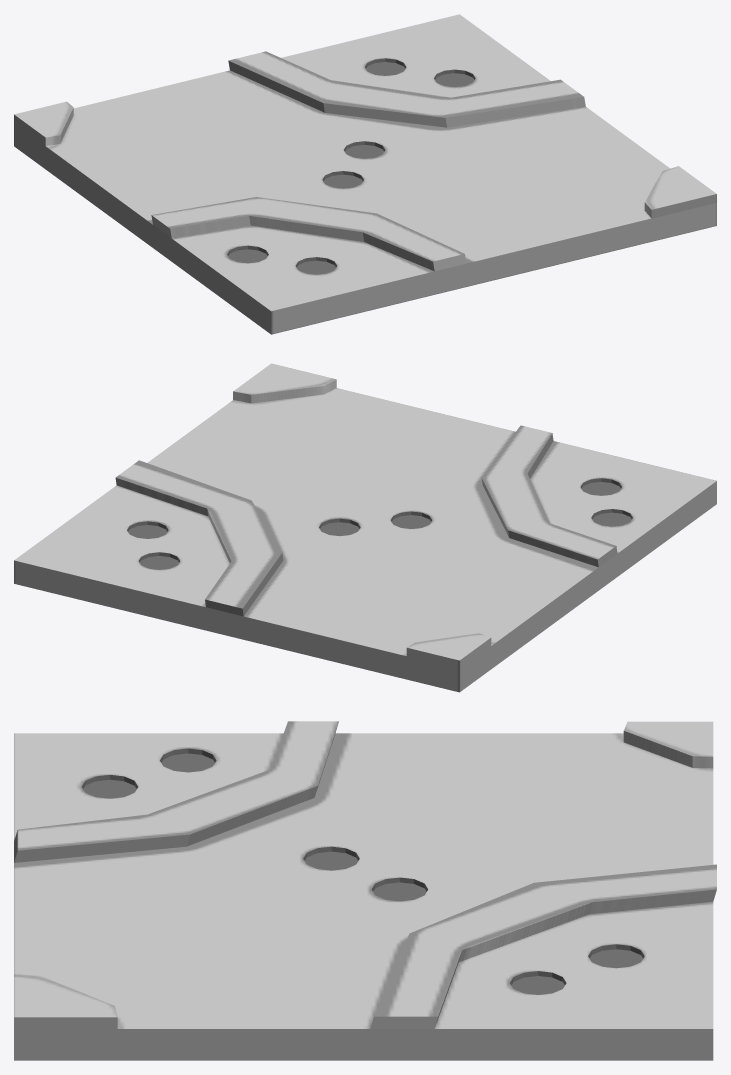
Rendered from FloorBrick_01.fbx.
3 views of the same model, one above another, from view 1: azimuth 30°, elevation 25°; view 2: azimuth 150°, elevation 25°; view 3: azimuth 270°, elevation 25° (orthographic). The views are drawn at different scales.
Parts seen in each view (by area): view 1: Cube.004; view 2: Cube.004; view 3: Cube.004.
Boxes of the visible parts, bbox=[...] form: Cube.004: bbox=[14, 14, 716, 334]; Cube.004: bbox=[14, 363, 716, 692]; Cube.004: bbox=[14, 721, 716, 1060].
Bounding box in the file's own units: 100 × 6.9 × 101.
Materials: 1 (1 with a texture image).
